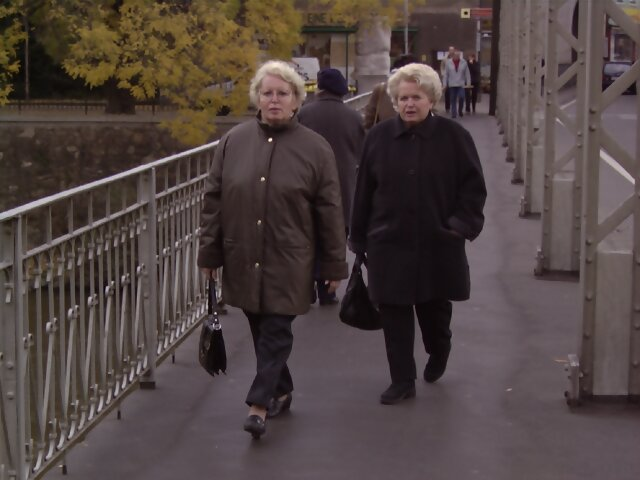person: (205, 58, 346, 447), (347, 62, 480, 411)
